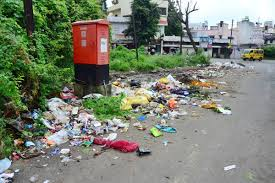garbage: (25, 100, 177, 157), (111, 71, 231, 125)
